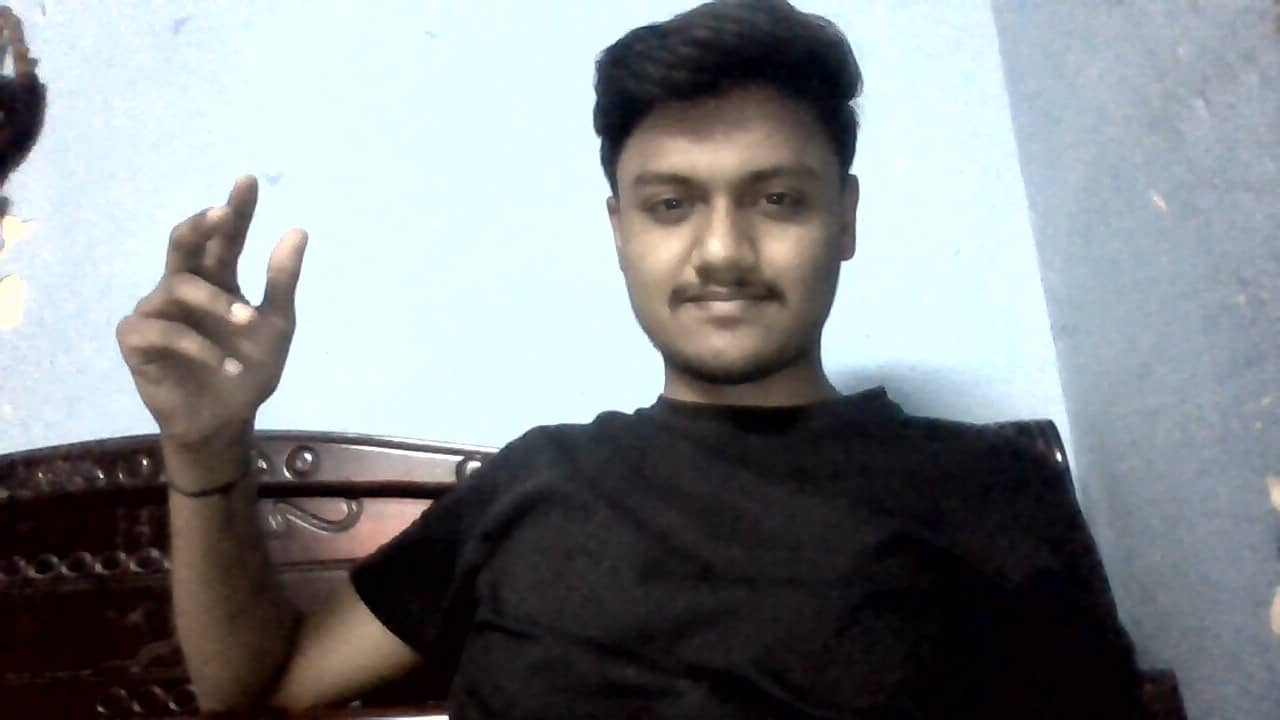hand: (114, 171, 310, 459)
